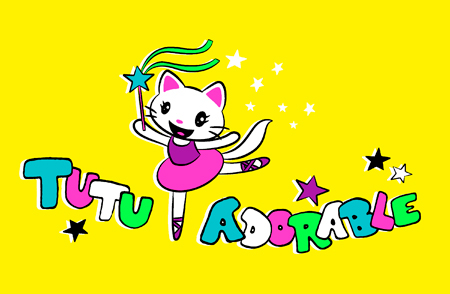cat: (117, 35, 280, 241)
